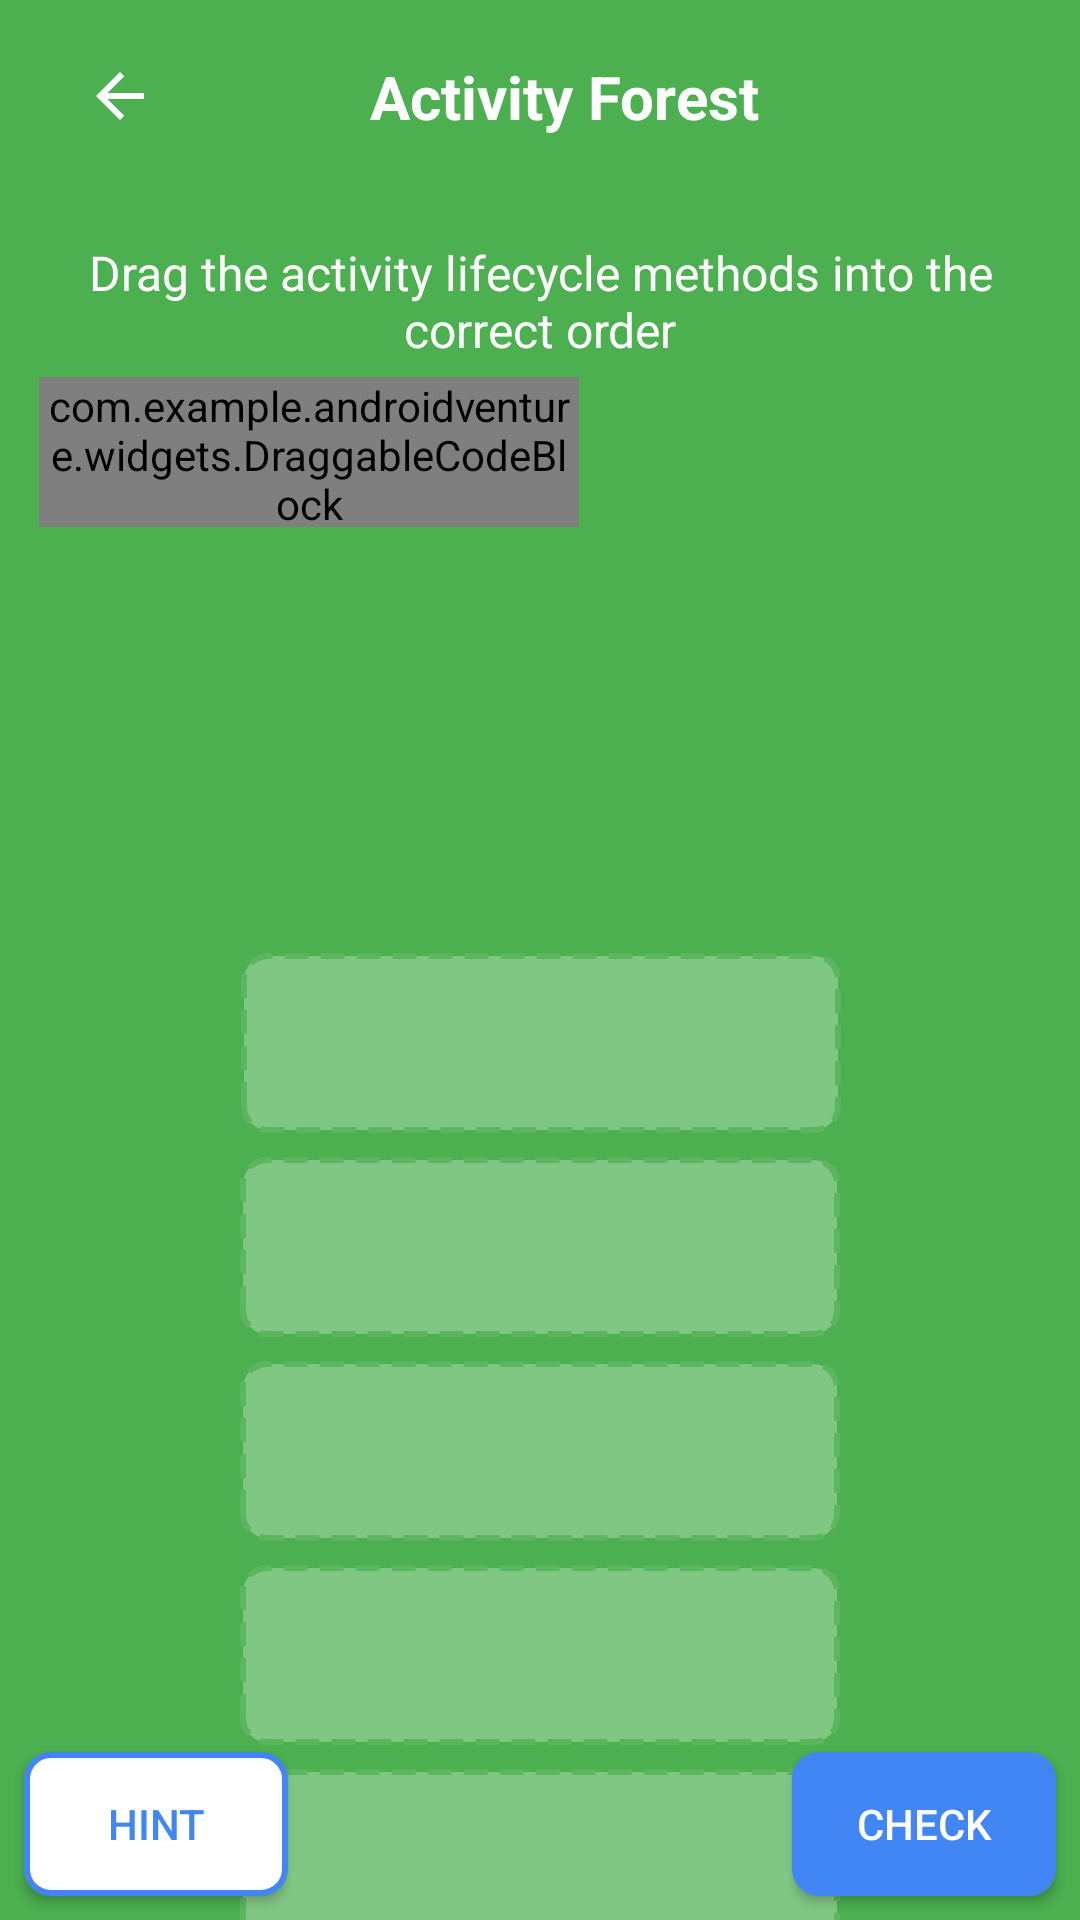

Screen size 1080w x 1920h. Icon name, then its center in pixels as point (x, y):
BACK: point (120, 96)
